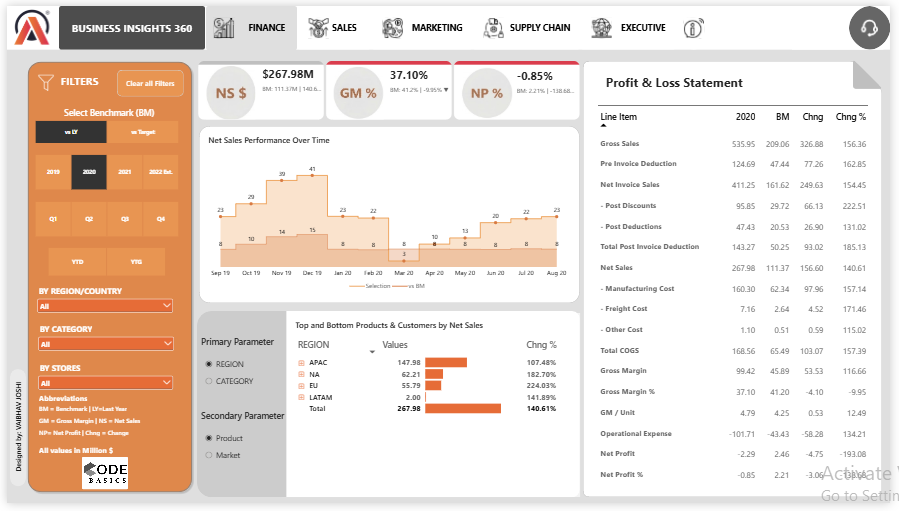

What the dashboard file says about the page in this screenshot:
{"tool":"powerbi","page":{"name":"Finance View","canvas":[1920,1080],"ordinal":1},"visuals":[{"type":"shape","box":[582.5,662.5,662.5,405],"z":0},{"type":"group","id":"g1","title":"Group 3","box":[70,864.3,265.7,74.3],"z":0,"group":"g2"},{"type":"shape","box":[70.3,864.3,264,24],"z":0,"group":"g1"},{"type":"actionButton","box":[412.5,662.5,195,405],"z":1000},{"type":"shape","box":[70,835.8,237.5,33.8],"z":1000,"group":"g2"},{"type":"shape","box":[70,890.6,264.3,22.9],"z":1000,"group":"g1"},{"type":"shape","box":[417.5,260,827.5,385],"z":2000},{"type":"shape","box":[70,915.7,265.7,22.9],"z":2000,"group":"g1"},{"type":"shape","box":[1252.5,120,650,948],"z":3000},{"type":"shape","box":[38.1,114.3,369,947.6],"z":4000},{"type":"textbox","box":[1707.5,0,212.5,95],"z":5000},{"type":"shape","box":[1840,115,65,65],"z":6000},{"type":"textbox","box":[0,0,1905,95],"z":7000},{"type":"pivotTable","title":"Profit & Loss Statement","fields":{"Columns":["P n L columns.Col Header"],"Rows":["P & L Rows.Line Item"],"Values":["Key Measures.P n L Final value"]},"box":[1280,210,600,835],"z":8000},{"type":"shape","box":[70,947.5,238,32],"z":9000},{"type":"slicer","fields":{"Values":["dim_date.Quarter"]},"box":[40.5,423.8,350,78.6],"z":10000},{"type":"slicer","fields":{"Values":["dim_date.YTD_YTG"]},"box":[69,523.8,292.9,64.3],"z":11000},{"type":"areaChart","fields":{"Category":["dim_date.Date"],"Y":["Key Measures.P & L Values","Key Measures.P & L BM"]},"box":[432,274,794,354],"z":12000},{"type":"pivotTable","fields":{"Rows":["dim_market.region","dim_product.product","dim_customer.customer"],"Values":["Key Measures.P & L Values","Key Measures.P & L Values (bar visual)","Key Measures.P n L YoY chng %"]},"box":[610,667.5,635,400],"z":13000},{"type":"textbox","box":[1280,147.5,340,40],"z":14000},{"type":"slicer","fields":{"Values":["dim_market.region","dim_market.market"]},"box":[61.9,605.8,304.8,78.6],"z":15000},{"type":"slicer","fields":{"Values":["dim_customer.customer"]},"box":[62.5,774.5,302.5,77.5],"z":16000},{"type":"slicer","fields":{"Values":["dim_product.category"]},"box":[62.5,689.5,305,80],"z":17000},{"type":"cardVisual","fields":{"Data":["Key Measures.Net sales $","Key Measures.Gross margin %","Key Measures.Net profit %"]},"box":[415,120,832,128],"z":18000},{"type":"image","box":[7.5,7.5,97.5,77.5],"z":19000},{"type":"slicer","fields":{"Values":["Set BM.Benchmarks"]},"box":[40.5,247.6,350,52],"z":20000},{"type":"actionButton","box":[240,140,145,57.5],"z":21000},{"type":"actionButton","box":[112.5,0,317.5,95],"z":22000},{"type":"actionButton","box":[432,0,198,96],"z":23000},{"type":"actionButton","box":[632.5,0,157.5,95],"z":24000},{"type":"actionButton","box":[792.5,0,217.5,95],"z":25000},{"type":"actionButton","box":[1012.5,0,232.5,95],"z":26000},{"type":"actionButton","box":[1247.5,0,205,95],"z":27000},{"type":"actionButton","box":[1830,0,90,95],"z":28000},{"type":"actionButton","box":[1455,0,77.5,95],"z":29000},{"type":"textbox","title":"FILTERS","box":[104.8,147.6,107.1,35.7],"z":30000},{"type":"image","box":[61.9,147.6,47.6,38.1],"z":31000},{"type":"slicer","fields":{"Values":["Fiscal Year.FY_desc"]},"box":[40.5,322.2,350,78.6],"z":32000},{"type":"textbox","title":"Select Benchmark (BM)","box":[78.6,219,288.1,38.1],"z":33000},{"type":"image","box":[162.5,980,100,70],"z":34000},{"type":"group","id":"g2","title":"Group 5","box":[70,835.8,265,102.5],"z":35000},{"type":"actionButton","title":"AB Signature","box":[7.5,790,35,255],"z":36000},{"type":"slicer","title":"Primary Parameter","fields":{"Values":["Parameter.Parameter"]},"box":[422.5,717.5,192.5,135],"z":37000},{"type":"slicer","title":"Secondary Parameter","fields":{"Values":["Secondary Parameter.Secondary Parameter"]},"box":[422.5,877.5,192.5,135],"z":38000}]}

Visuals, with their boxes on the page's 1920x1080 design canvas (x1, y1, x2, y2). These are canvas units, not pixel positions in the 899x511 screenshot, which may show the page scaled, cropped or inside an application window:
shape: Rect(582, 662, 1245, 1068)
"Group 3" group: Rect(70, 864, 336, 939)
shape: Rect(70, 864, 334, 888)
actionButton: Rect(412, 662, 608, 1068)
shape: Rect(70, 836, 308, 870)
shape: Rect(70, 891, 334, 914)
shape: Rect(418, 260, 1245, 645)
shape: Rect(70, 916, 336, 939)
shape: Rect(1252, 120, 1902, 1068)
shape: Rect(38, 114, 407, 1062)
textbox: Rect(1708, 0, 1920, 95)
shape: Rect(1840, 115, 1905, 180)
textbox: Rect(0, 0, 1905, 95)
"Profit & Loss Statement" pivotTable: Rect(1280, 210, 1880, 1045)
shape: Rect(70, 948, 308, 980)
slicer - dim_date.Quarter: Rect(40, 424, 390, 502)
slicer - dim_date.YTD_YTG: Rect(69, 524, 362, 588)
areaChart - dim_date.Date x Key Measures.P & L Values: Rect(432, 274, 1226, 628)
pivotTable - dim_market.region x dim_product.product: Rect(610, 668, 1245, 1068)
textbox: Rect(1280, 148, 1620, 188)
slicer - dim_market.region x dim_market.market: Rect(62, 606, 367, 684)
slicer - dim_customer.customer: Rect(62, 774, 365, 852)
slicer - dim_product.category: Rect(62, 690, 368, 770)
cardVisual - Key Measures.Net sales $ x Key Measures.Gross margin %: Rect(415, 120, 1247, 248)
image: Rect(8, 8, 105, 85)
slicer - Set BM.Benchmarks: Rect(40, 248, 390, 300)
actionButton: Rect(240, 140, 385, 198)
actionButton: Rect(112, 0, 430, 95)
actionButton: Rect(432, 0, 630, 96)
actionButton: Rect(632, 0, 790, 95)
actionButton: Rect(792, 0, 1010, 95)
actionButton: Rect(1012, 0, 1245, 95)
actionButton: Rect(1248, 0, 1452, 95)
actionButton: Rect(1830, 0, 1920, 95)
actionButton: Rect(1455, 0, 1532, 95)
"FILTERS" textbox: Rect(105, 148, 212, 183)
image: Rect(62, 148, 110, 186)
slicer - Fiscal Year.FY_desc: Rect(40, 322, 390, 401)
"Select Benchmark (BM)" textbox: Rect(79, 219, 367, 257)
image: Rect(162, 980, 262, 1050)
"Group 5" group: Rect(70, 836, 335, 938)
"AB Signature" actionButton: Rect(8, 790, 42, 1045)
"Primary Parameter" slicer: Rect(422, 718, 615, 852)
"Secondary Parameter" slicer: Rect(422, 878, 615, 1012)
